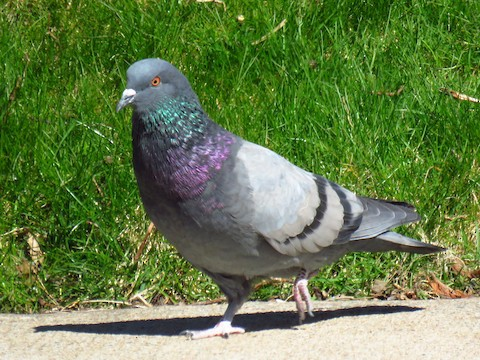pigeon: (114, 55, 449, 342)
